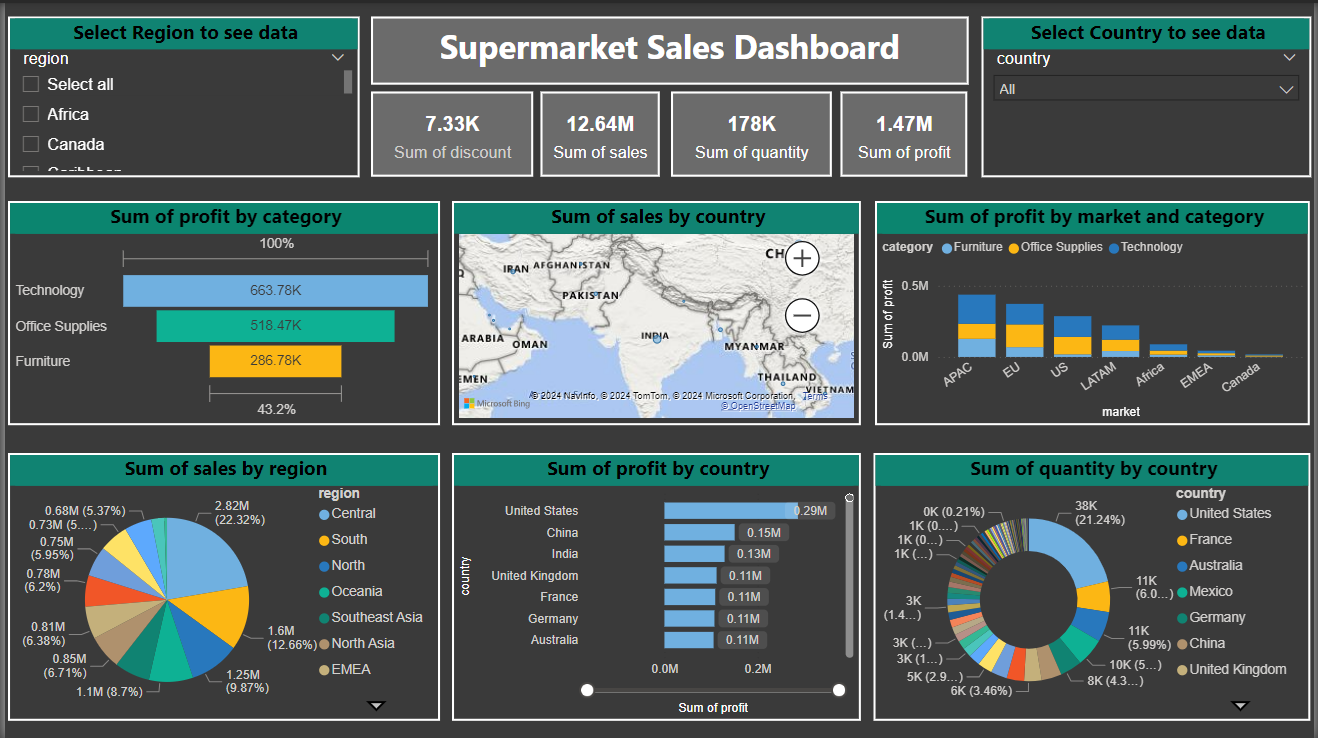

The dashboard page shown, as its layout file describes it:
{"tool":"powerbi","page":{"name":"Page 1","canvas":[1280,720],"ordinal":0},"visuals":[{"type":"pieChart","title":"Sales by region","fields":{"Category":["Orders.region"],"Y":["Sum(Orders.sales)"]},"box":[3,439.6,422.5,262],"z":0},{"type":"clusteredBarChart","title":"Profit by country","fields":{"Category":["Orders.country"],"Y":["Sum(Orders.profit)"]},"box":[437.6,439.6,399.8,262],"z":1000},{"type":"donutChart","fields":{"Category":["Orders.country"],"Y":["Sum(Orders.quantity)"]},"box":[849.5,439.6,427,262],"z":2000},{"type":"slicer","title":"Select Country to see data","fields":{"Values":["Orders.country"]},"box":[955,13.1,322.5,157.5],"z":3000},{"type":"map","fields":{"Category":["Orders.country"],"Size":["Sum(Orders.sales)"]},"box":[437.6,194.3,399.8,219.6],"z":4000},{"type":"funnel","fields":{"Category":["Orders.category"],"Y":["Sum(Orders.profit)"]},"box":[3,194.3,422.5,219.6],"z":5000},{"type":"textbox","box":[357.3,13.1,584.5,66.6],"z":6000},{"type":"card","fields":{"Values":["Sum(Orders.sales)"]},"box":[523.9,87.3,116.6,83.3],"z":7000},{"type":"card","fields":{"Values":["Sum(Orders.quantity)"]},"box":[651.1,87.3,157.5,83.3],"z":8000},{"type":"card","fields":{"Values":["Sum(Orders.profit)"]},"box":[817.7,87.3,124.2,83.3],"z":9000},{"type":"lineStackedColumnComboChart","fields":{"Y":["Sum(Orders.profit)"],"Category":["Orders.market"],"Series":["Orders.category"]},"box":[851,194.3,425.5,219.6],"z":10000},{"type":"card","title":"Discount","fields":{"Values":["Sum(Orders.discount)"]},"box":[357.3,87.3,159,83.3],"z":11000},{"type":"slicer","title":"Select Region to see data","fields":{"Values":["Orders.region"]},"box":[2.5,13.1,343.7,157.5],"z":12000}]}

Visuals, with their boxes in screenshot pixels (x1, y1, x2, y2), scaled from the page's 1280x720 canvas onto the 1318x738 screenshot:
"Sales by region" pieChart: {"left": 3, "top": 451, "right": 438, "bottom": 719}
"Profit by country" clusteredBarChart: {"left": 451, "top": 451, "right": 862, "bottom": 719}
donutChart - Orders.country x Sum(Orders.quantity): {"left": 875, "top": 451, "right": 1314, "bottom": 719}
"Select Country to see data" slicer: {"left": 983, "top": 13, "right": 1315, "bottom": 175}
map - Orders.country x Sum(Orders.sales): {"left": 451, "top": 199, "right": 862, "bottom": 424}
funnel - Orders.category x Sum(Orders.profit): {"left": 3, "top": 199, "right": 438, "bottom": 424}
textbox: {"left": 368, "top": 13, "right": 970, "bottom": 82}
card - Sum(Orders.sales): {"left": 539, "top": 89, "right": 660, "bottom": 175}
card - Sum(Orders.quantity): {"left": 670, "top": 89, "right": 833, "bottom": 175}
card - Sum(Orders.profit): {"left": 842, "top": 89, "right": 970, "bottom": 175}
lineStackedColumnComboChart - Sum(Orders.profit) x Orders.market: {"left": 876, "top": 199, "right": 1314, "bottom": 424}
"Discount" card: {"left": 368, "top": 89, "right": 532, "bottom": 175}
"Select Region to see data" slicer: {"left": 3, "top": 13, "right": 356, "bottom": 175}
